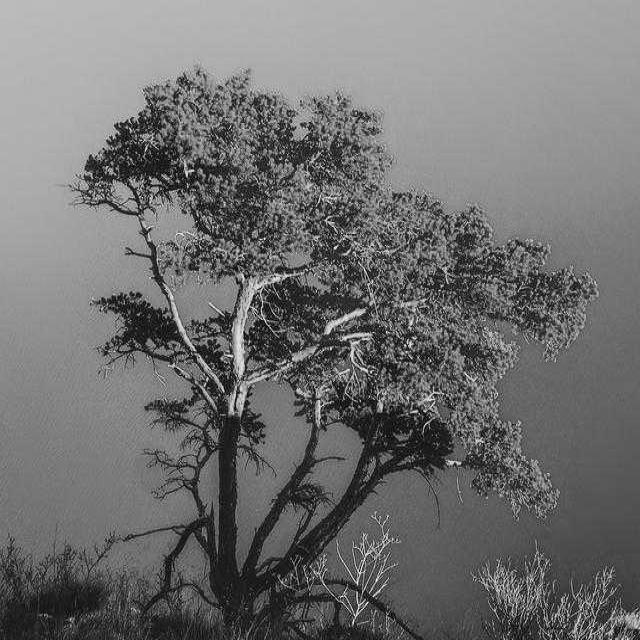Tree: (73, 66, 598, 631)
